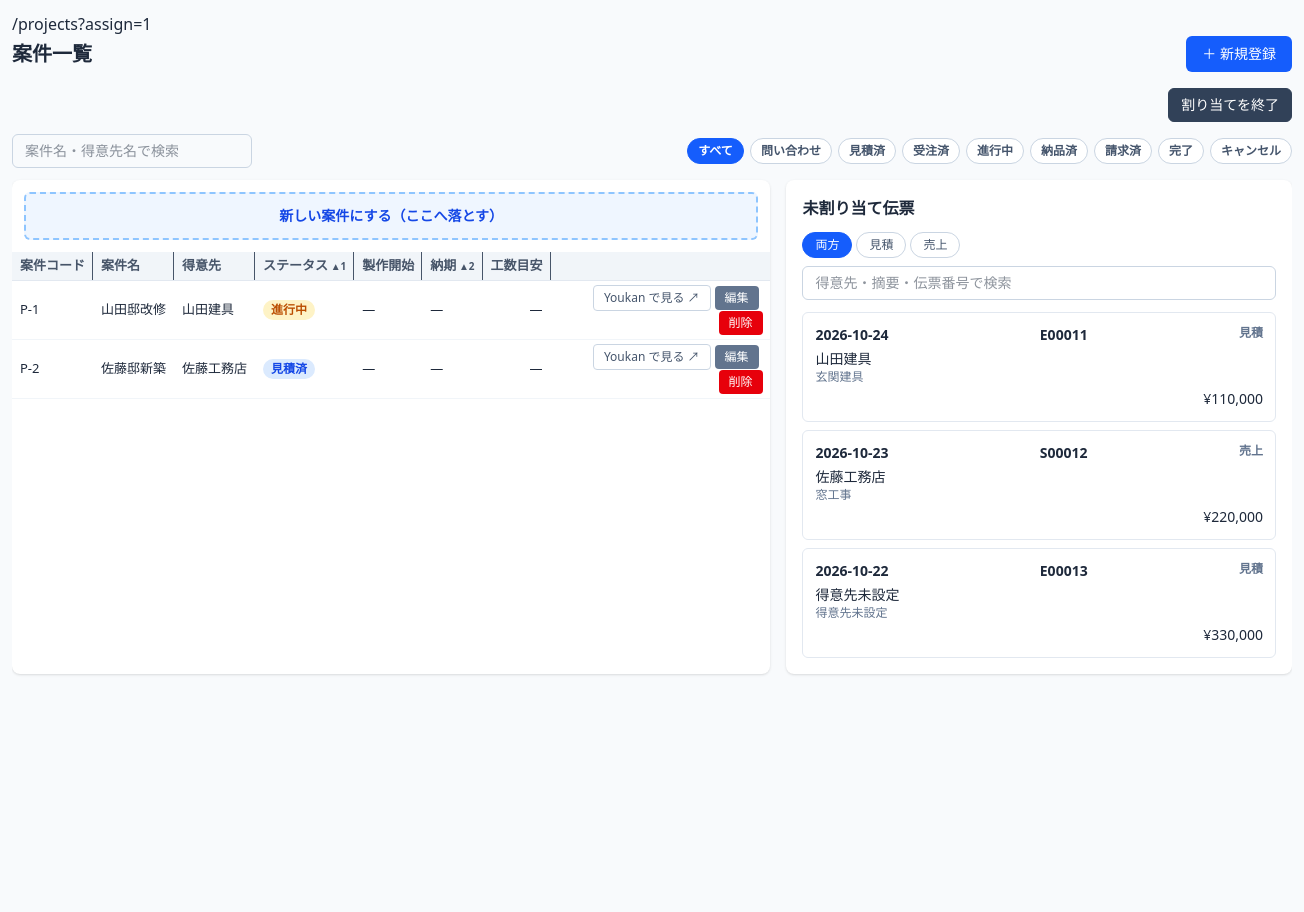
Test: R-0198 未割り当て伝票による案件の得意先絞り込み › 同じカードの再クリックで解除し、別カードのクリックで切り替える
What coordinates should you click on to do the following:
click the element with test id "unlinked-voucher-11"
I would click on:
 (1039, 367)
Its box is [802,312,1276,422].
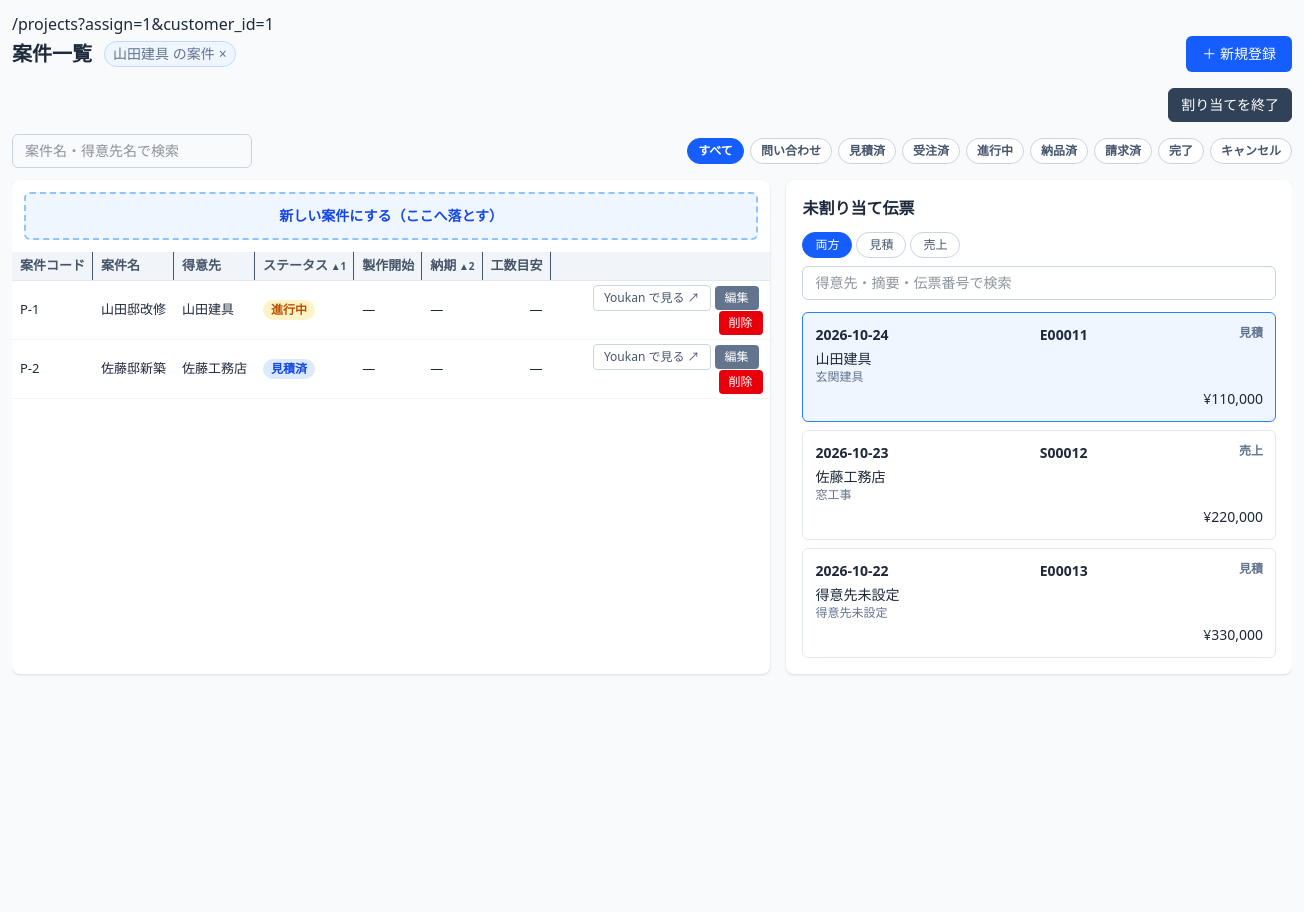
Check: the text with test id "location" shows "customer_id=1", box [78,13,274,35]
What coordinates should you click on to do the following:
click the element with test id "unlinked-voucher-11"
I would click on:
 (1039, 367)
Its box is [802,312,1276,422].
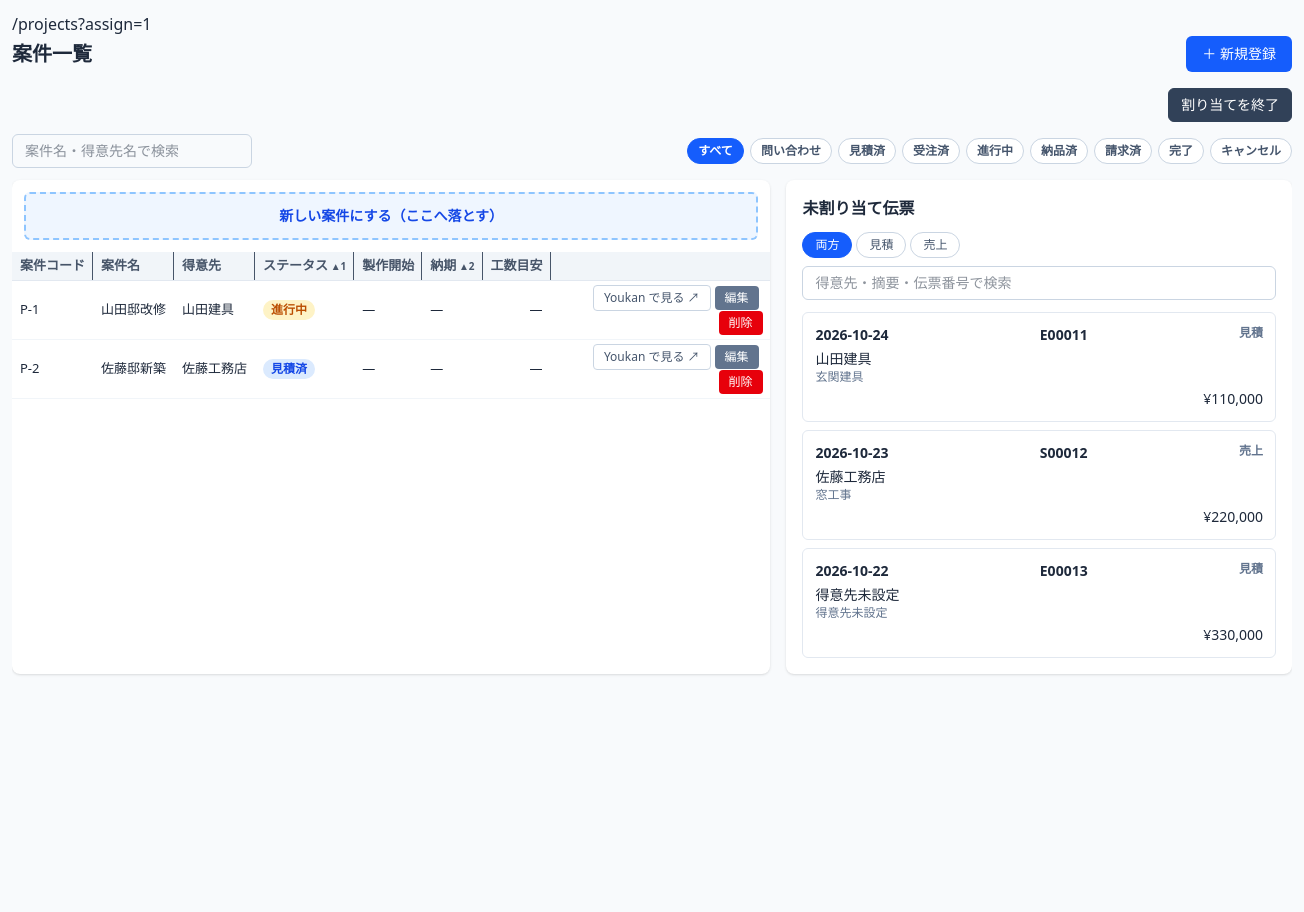
Check: the text with test id "location" no longer shows "customer_id"
What coordinates should you click on to do the following:
click the element with test id "unlinked-voucher-12"
I would click on:
 (1039, 485)
Its box is [802,430,1276,540].
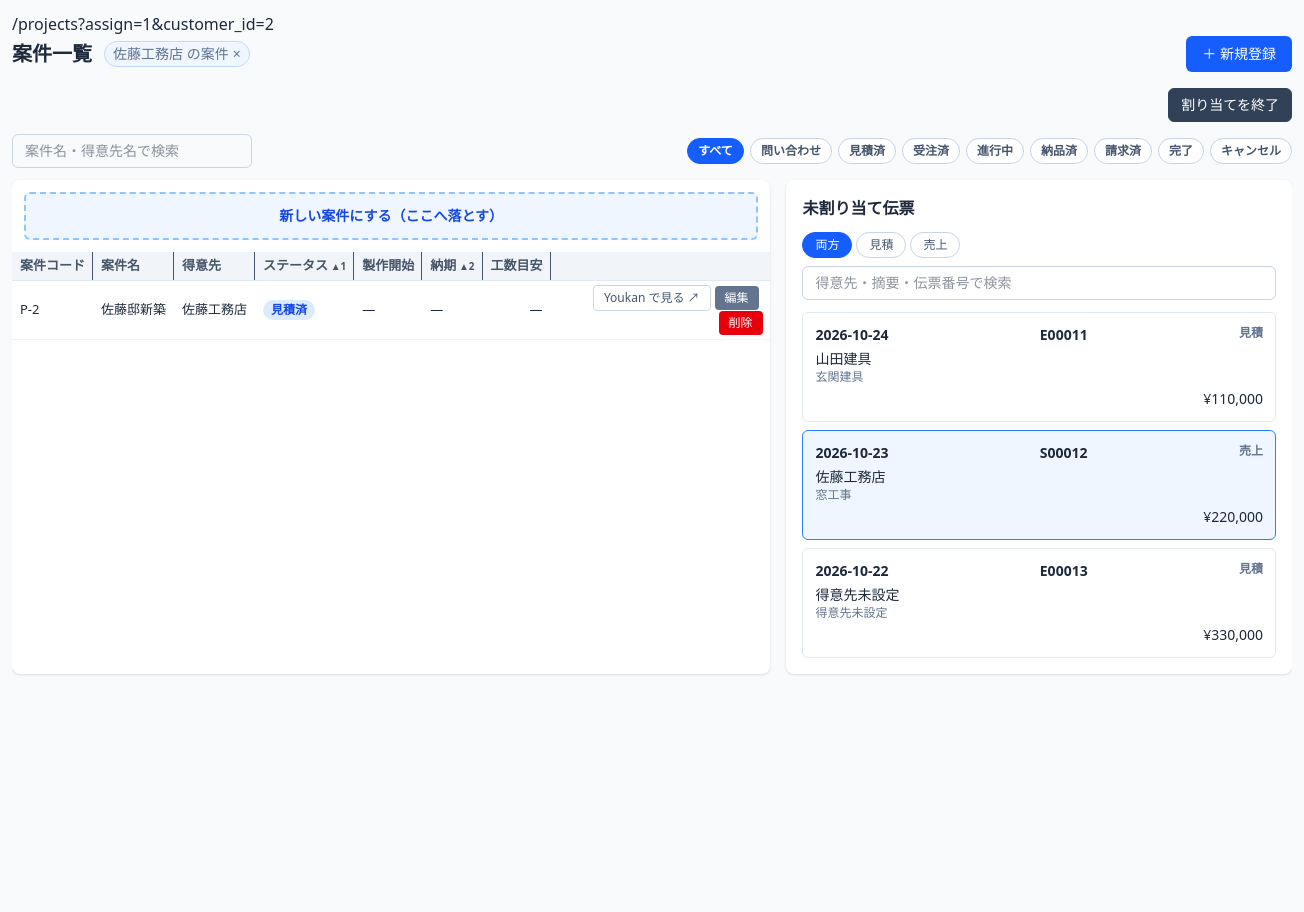
Check: the text with test id "location" shows "customer_id=2", box [78,13,274,35]
